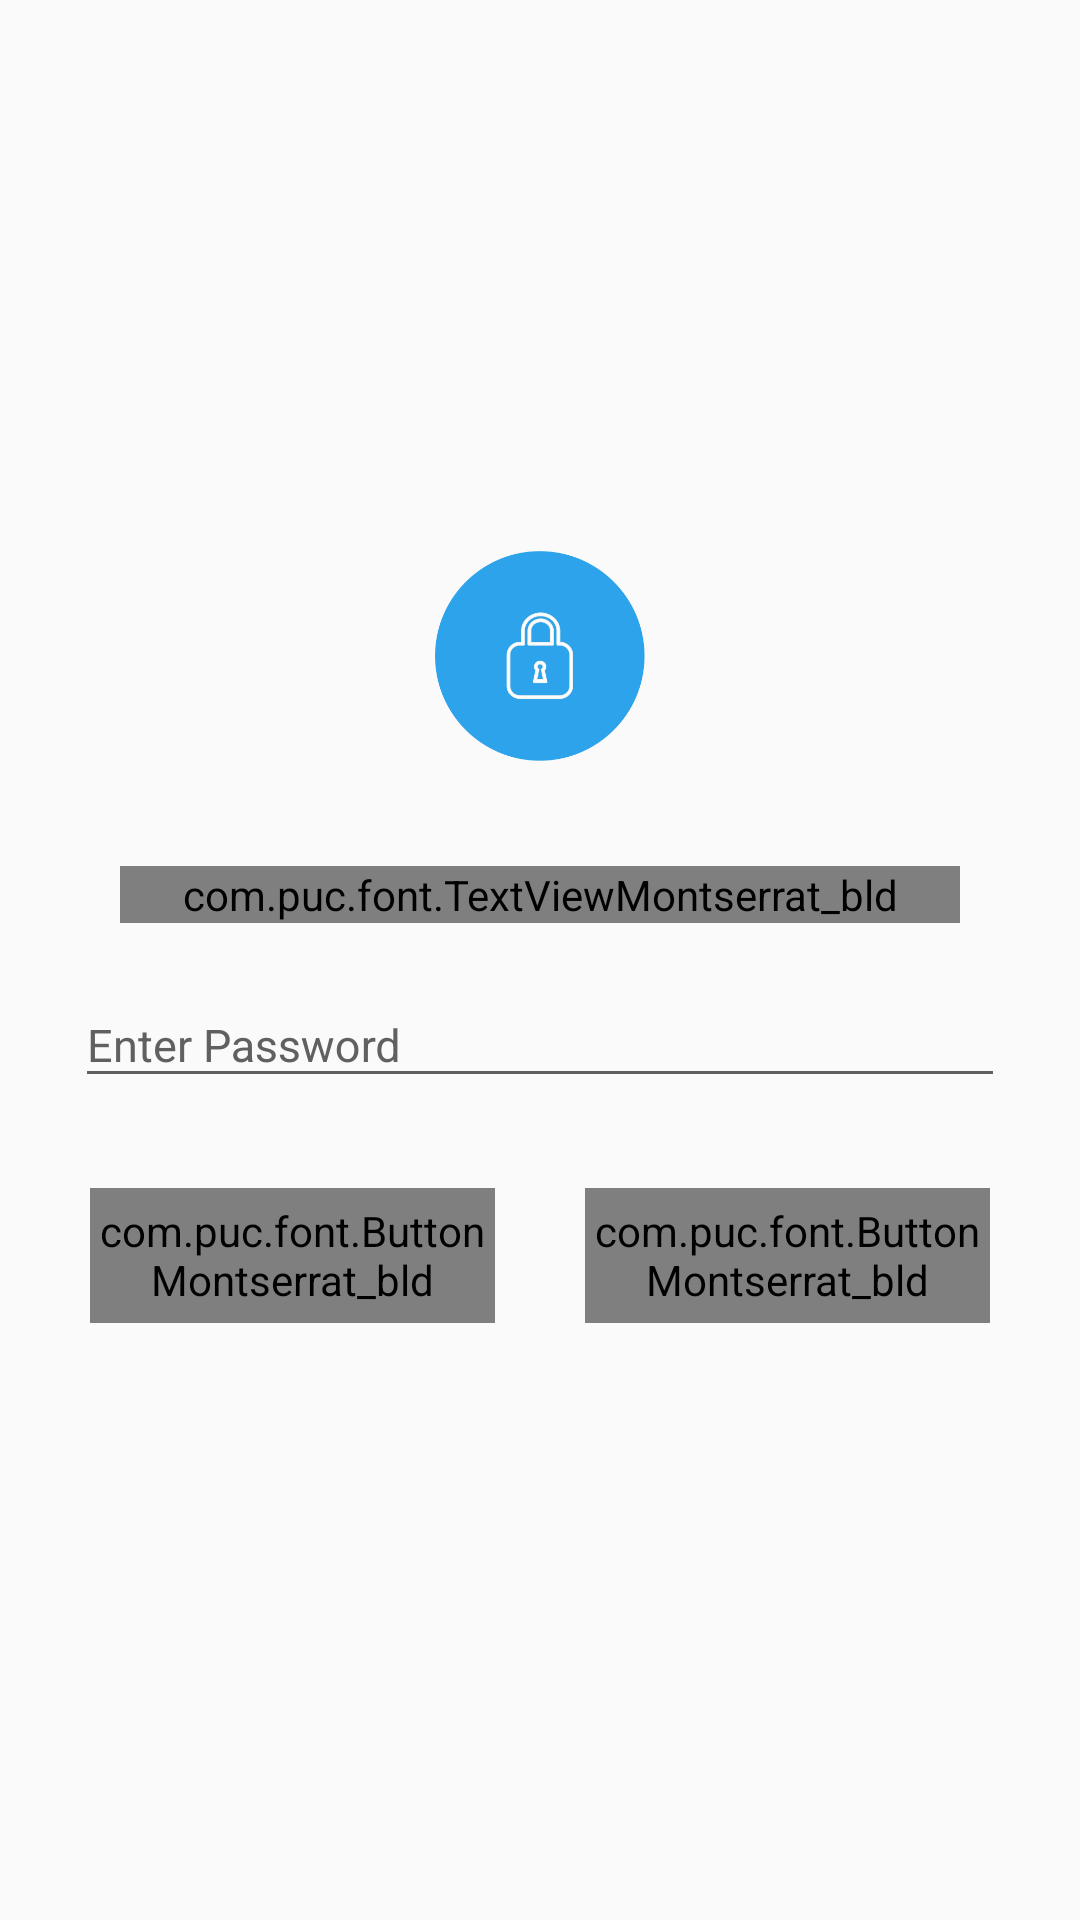

Screen size 1080x1920. Icon name, then its box in pixels as (x1, y1, x2, y2):
pwd lock: (435, 551, 645, 761)
